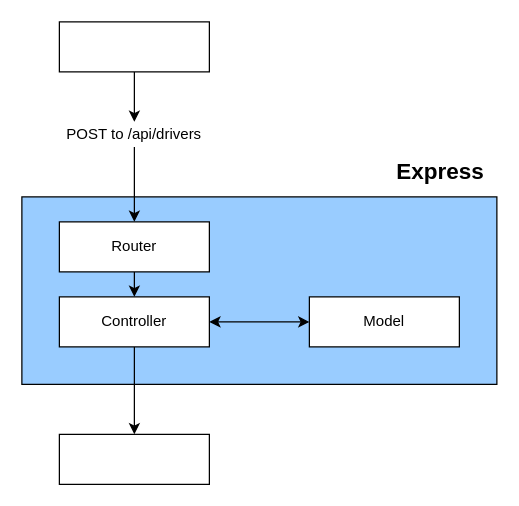
Some shapes in this 519 by 506 pixel diagram are drawn without their labels. Each missing label, with the box of its shape:
Create a Driver: (58, 21, 209, 72)
MongoDB: (58, 433, 209, 484)
